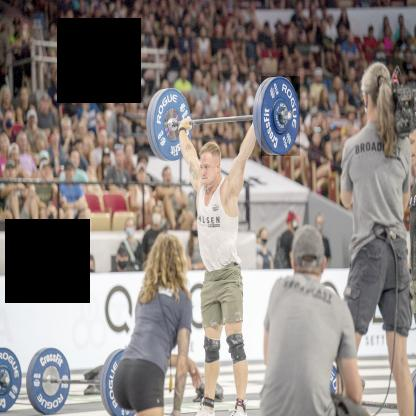barbell: (262, 77, 301, 157)
